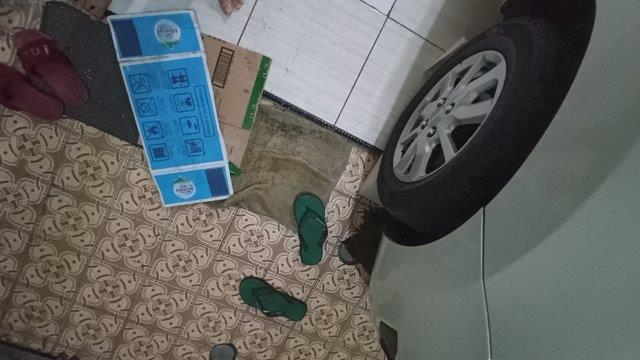kardus: (108, 4, 271, 206)
